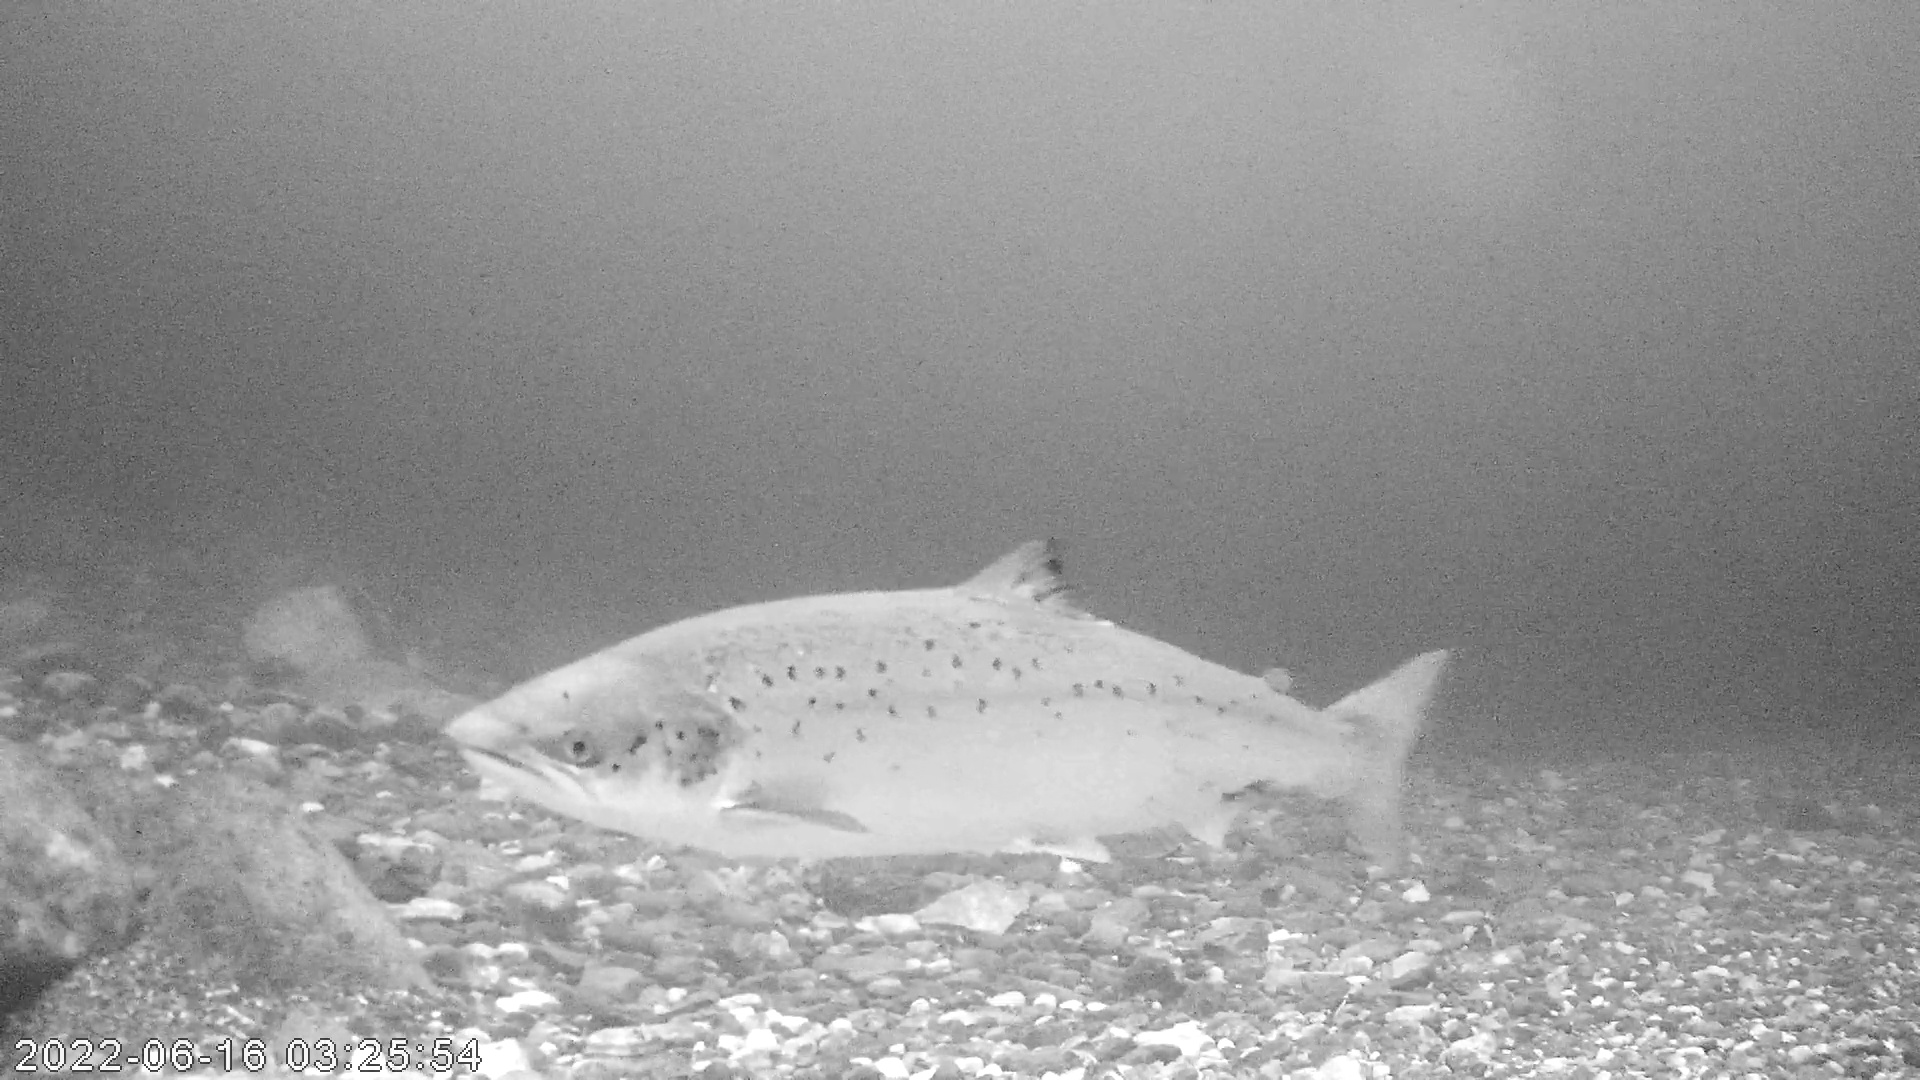salmon: (440, 533, 1455, 884)
